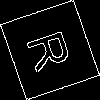R: (25, 25, 82, 74)
